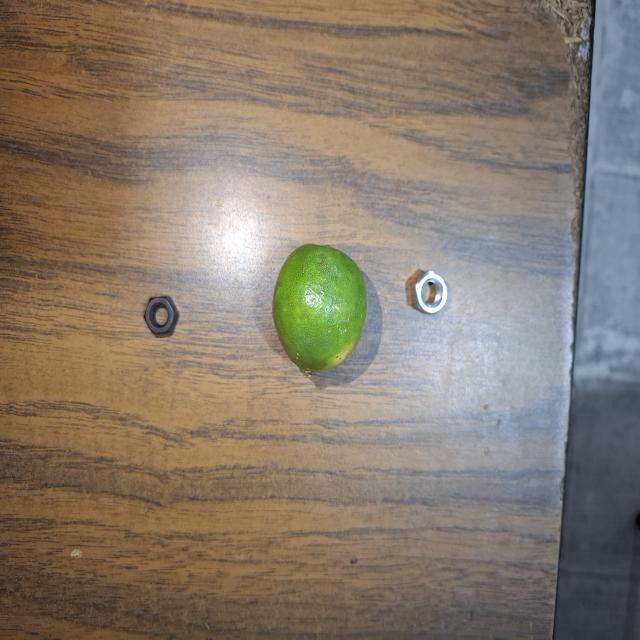limon: (269, 240, 374, 388)
milimetrico: (137, 286, 184, 346)
tuerca: (403, 257, 459, 328)
